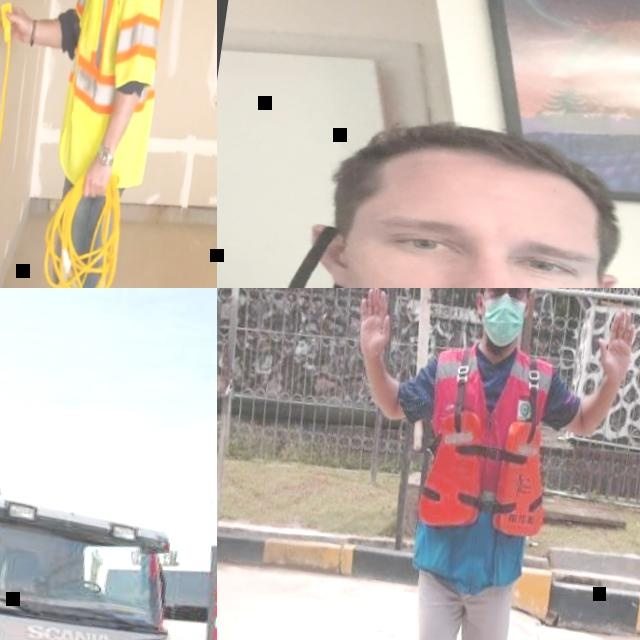Mask: (476, 290, 529, 350)
NO-Hardhat: (322, 107, 626, 220)
NO-Mask: (301, 252, 612, 288)
Person: (280, 288, 640, 640), (217, 86, 640, 288), (0, 0, 195, 288)
Safety Vest: (414, 336, 569, 546), (52, 0, 180, 193)
machinery: (0, 314, 217, 640)
